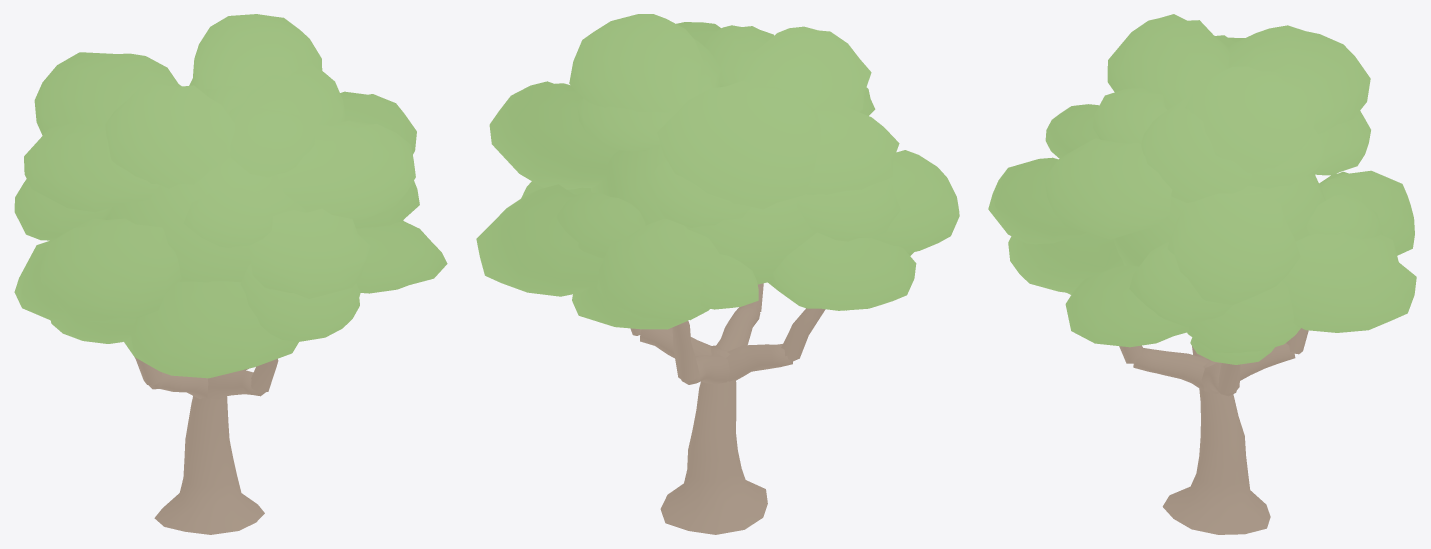
File: Blender_Oak_3.glb
3 renders of one model, left to right at view 1: azimuth 30°, elevation 25°; view 2: azimuth 150°, elevation 25°; view 3: azimuth 270°, elevation 25°, orthographic. The views are drawn at different scales.
Visible parts, largest first — view 1: Blender_Oak_3; view 2: Blender_Oak_3; view 3: Blender_Oak_3.
Boxes of the visible parts, box(x1,y1,x2,y2) form: Blender_Oak_3: box(14, 14, 447, 534); Blender_Oak_3: box(476, 14, 959, 534); Blender_Oak_3: box(988, 14, 1416, 534).
Bounding box in the file's own units: 18.98 × 20.78 × 17.18.
